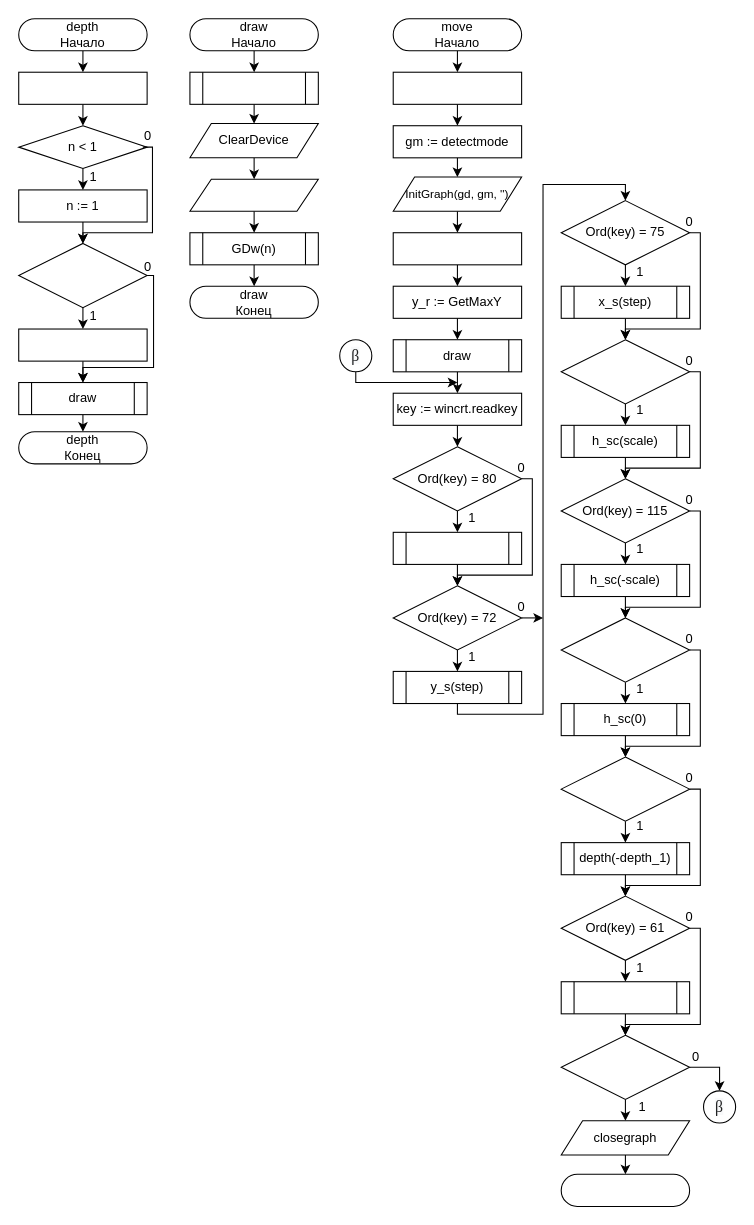
The diagram is 754 pixels wide and 1225 high, and some of its shapes have lost their labels. The shapes that lost their labels are listed below. From the top down, each one's box as (x1, y1, x2, y2) in pixels, then its label:
(18, 71, 147, 104): n := n + depth_s
(189, 71, 318, 104): center
(392, 71, 522, 104): gd := VGA
(189, 178, 318, 211): moveto(x + x1, y + y1)
(392, 232, 522, 265): x_r := GetMaxX
(18, 242, 147, 308): n > max_depth
(18, 328, 147, 361): n := max_depth
(560, 339, 690, 404): Ord(key) = 119
(392, 531, 522, 564): y_s(-step)
(560, 617, 690, 682): Ord(key) = 99
(560, 756, 690, 821): Ord(key) = 45
(560, 981, 690, 1014): depth(depth_1)
(560, 1034, 690, 1099): Ord(key) = 27
(560, 1173, 690, 1206): move Конец
